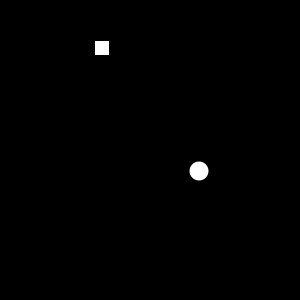circle: (95, 41, 109, 55)
rectangle: (190, 162, 208, 180)
